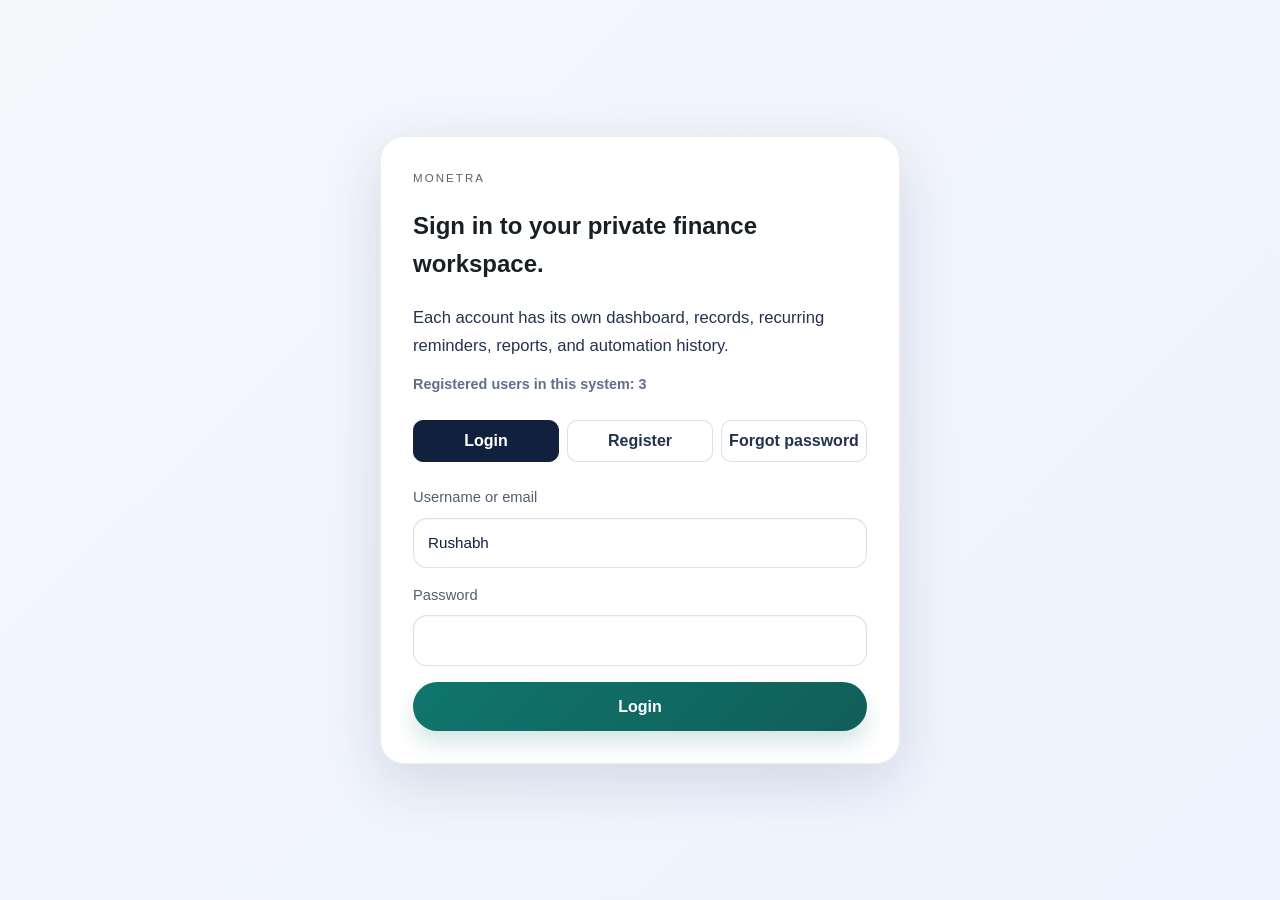
AuthenticatedApp › blocks registration when the password matches the username or email
This screenshot has width=1280, height=900.
Click the button "Register" at point(640, 441), box [567,420,713,462]
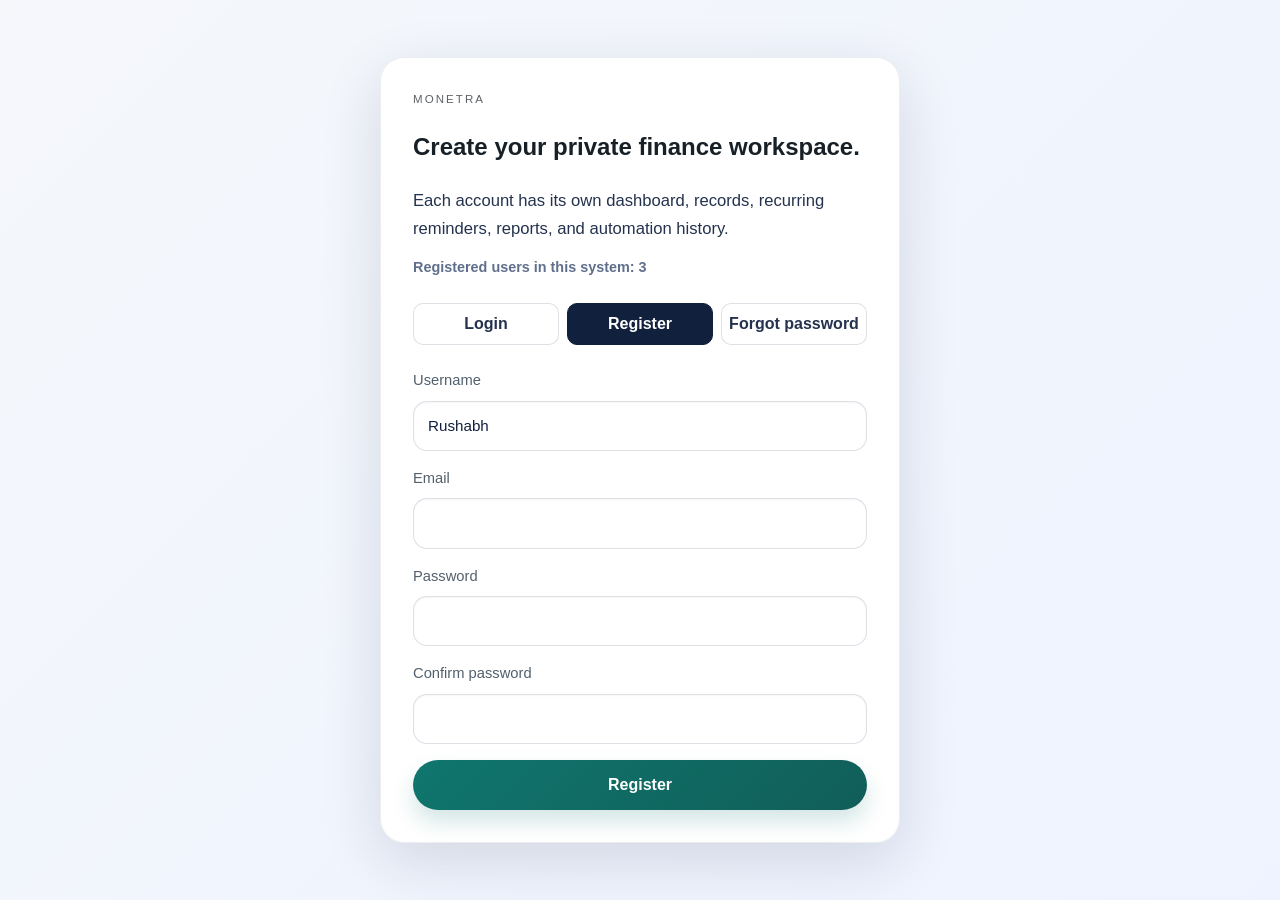
Replace the text in the field labelled "Username" with "NewUser" at point(640, 426), box [413,400,867,451]
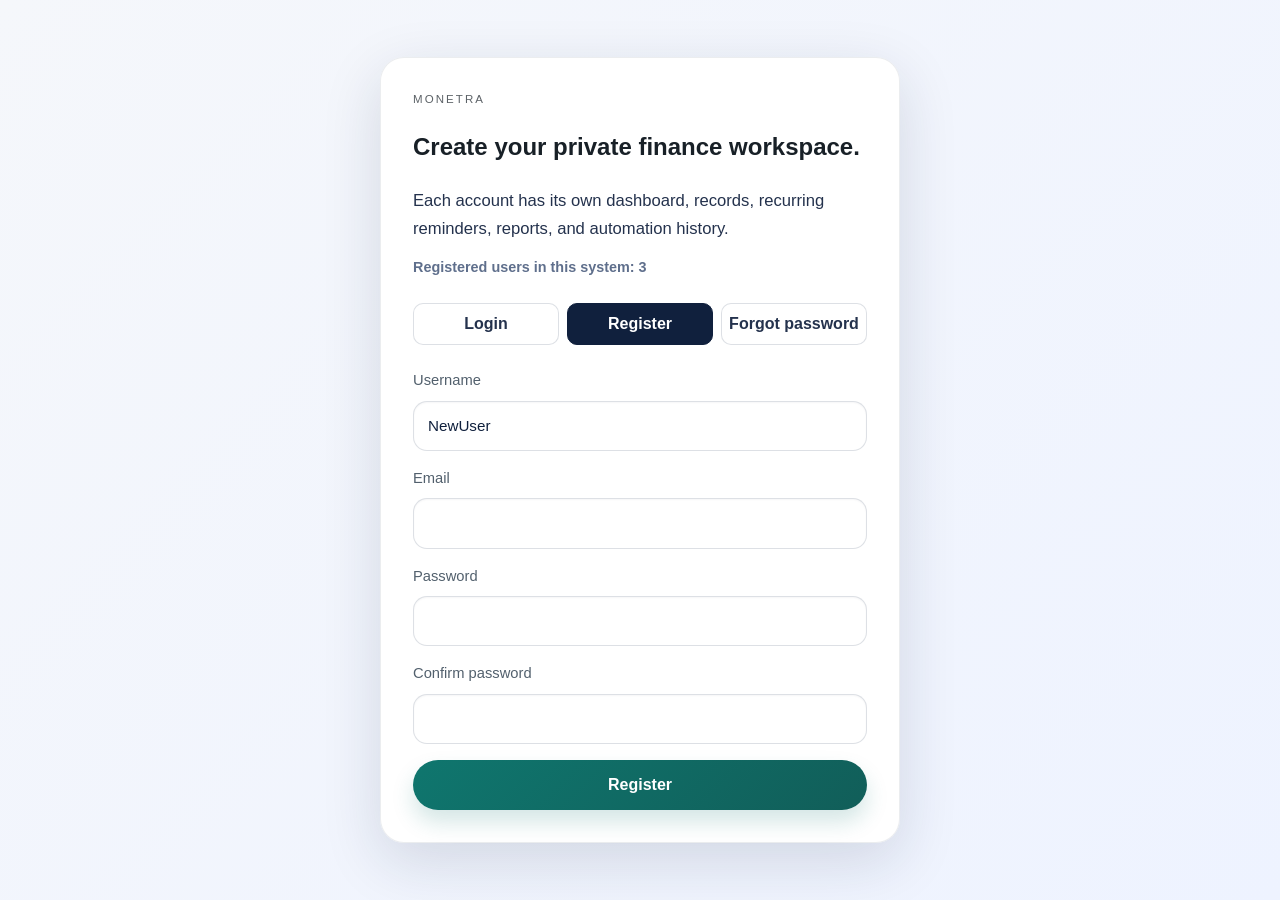
Type "new@example.com" into the field labelled "Email" at point(640, 523), box [413,498,867,549]
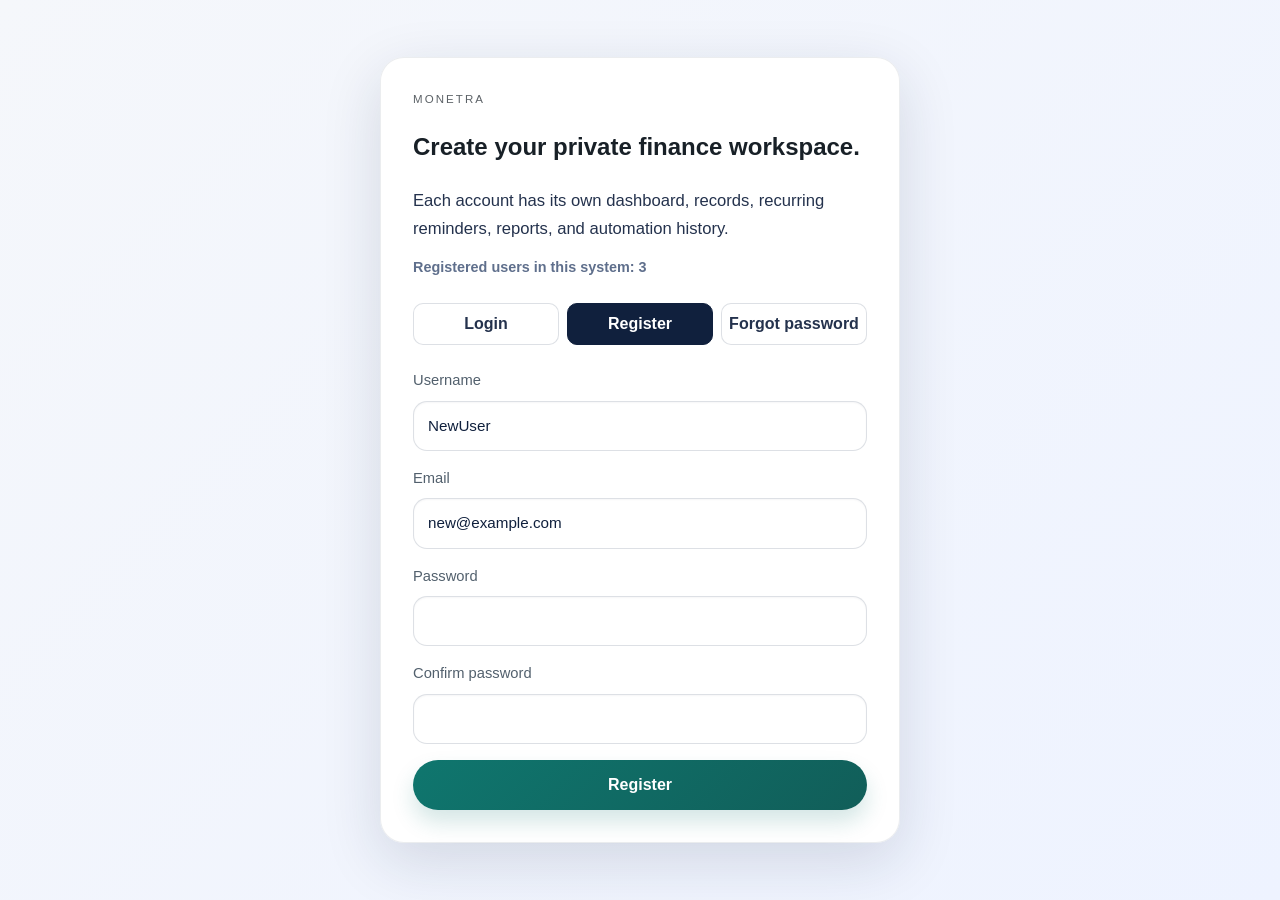
Type "NewUser" into the password field labelled "Password" at point(640, 621), box [413,596,867,646]
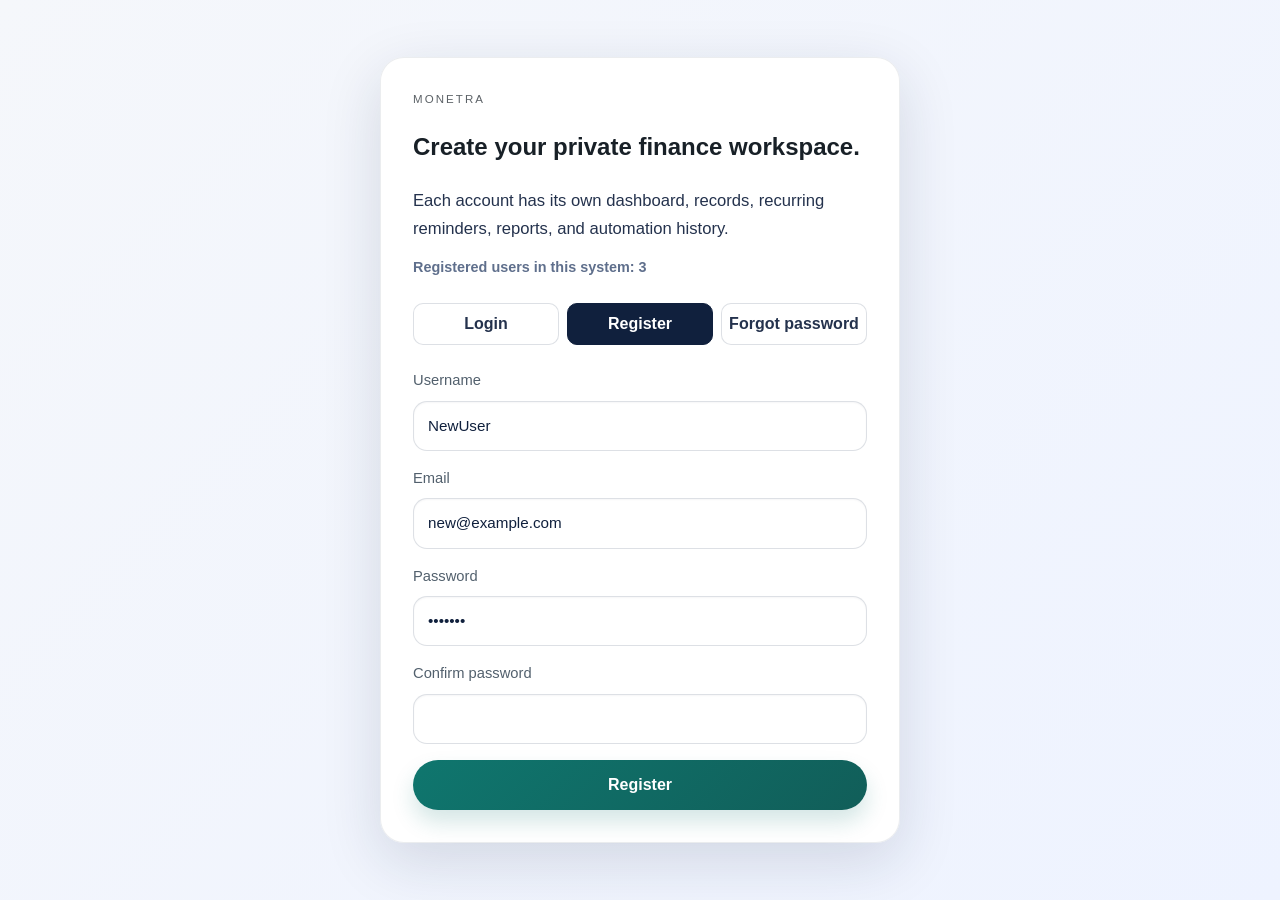
Type "NewUser" into the password field labelled "Confirm password" at point(640, 719), box [413,694,867,744]
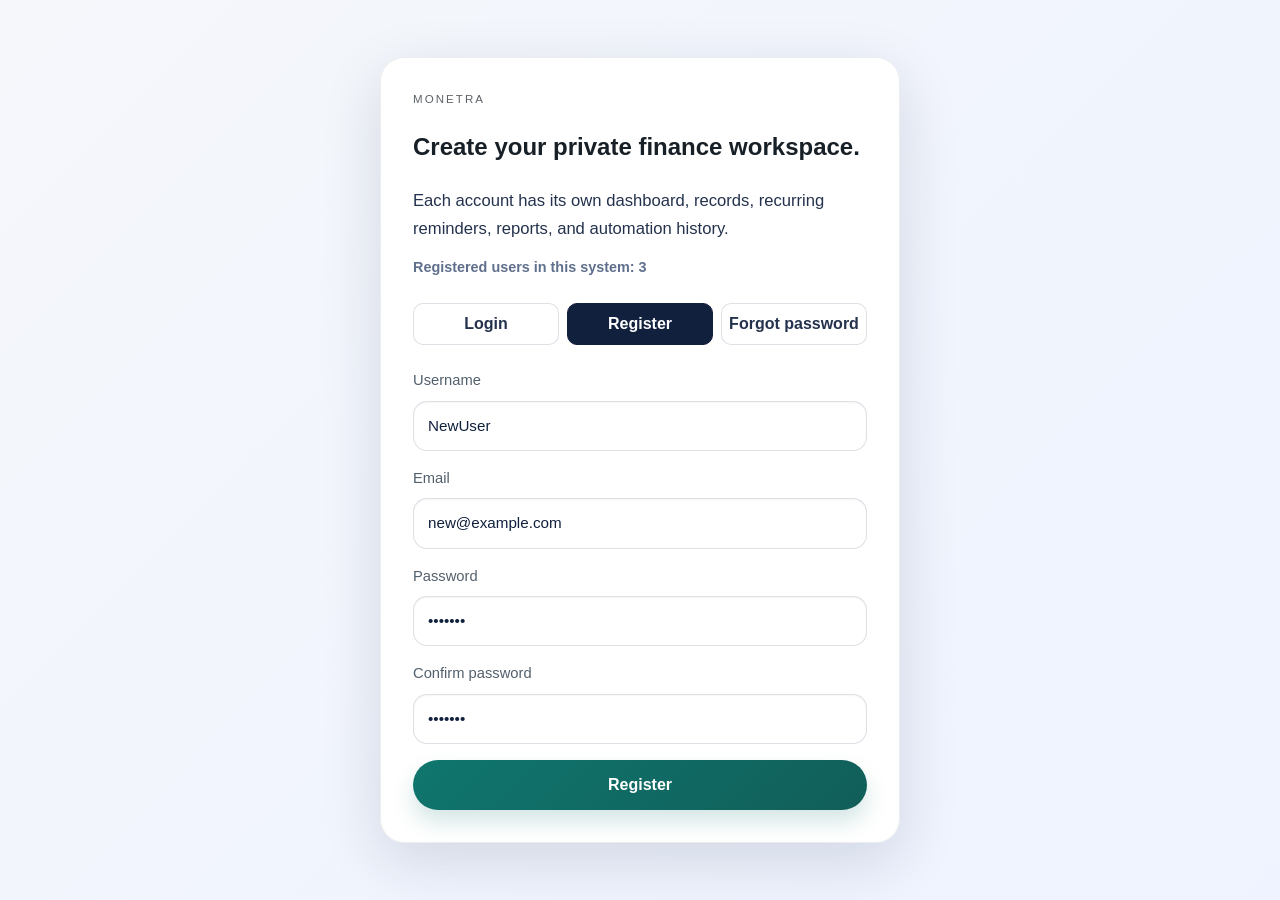
Click the button "Register" below "Confirm password" at point(640, 785), box [413,760,867,810]
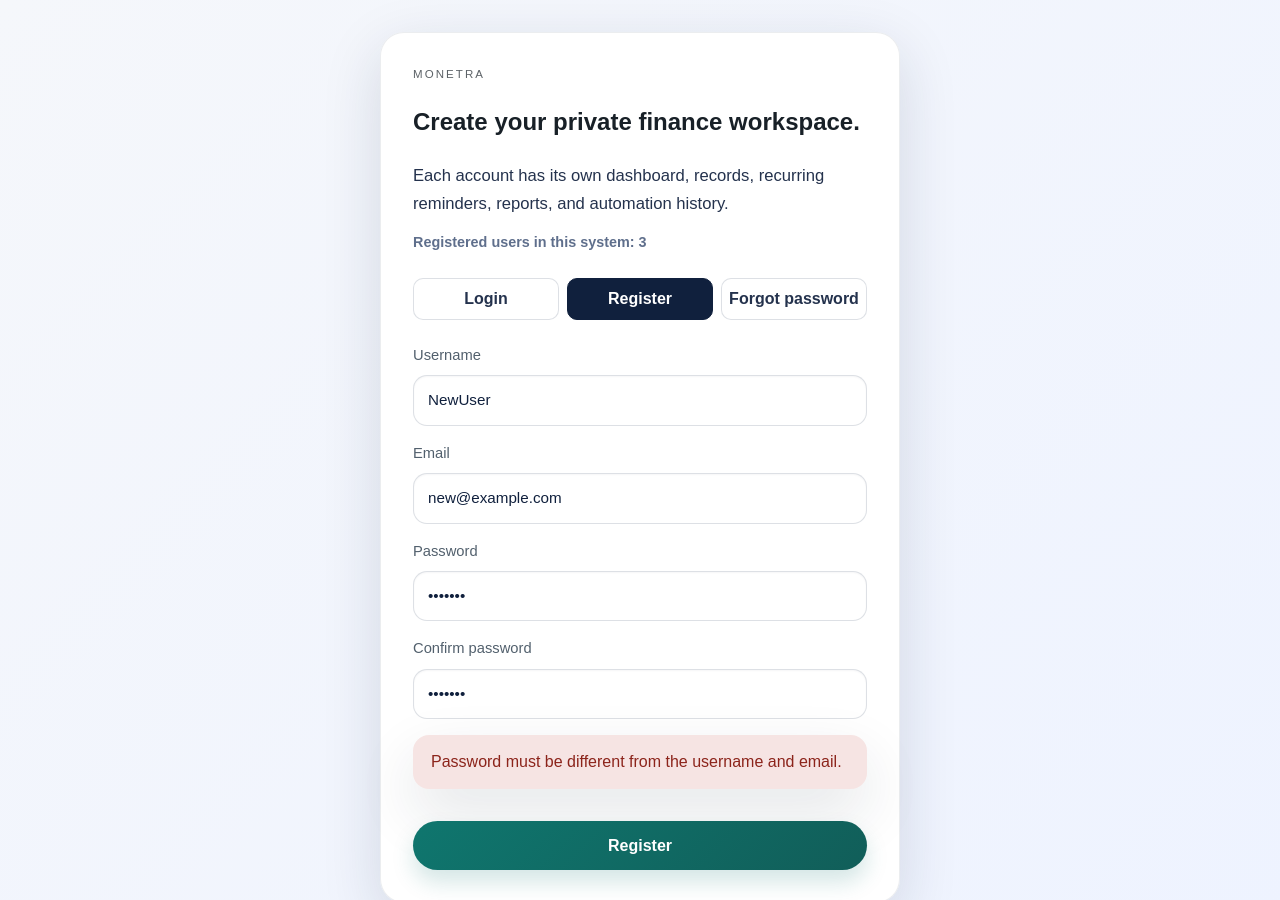
Result: the text "Password must be different from the username and email." is shown at [413,735,867,789]
